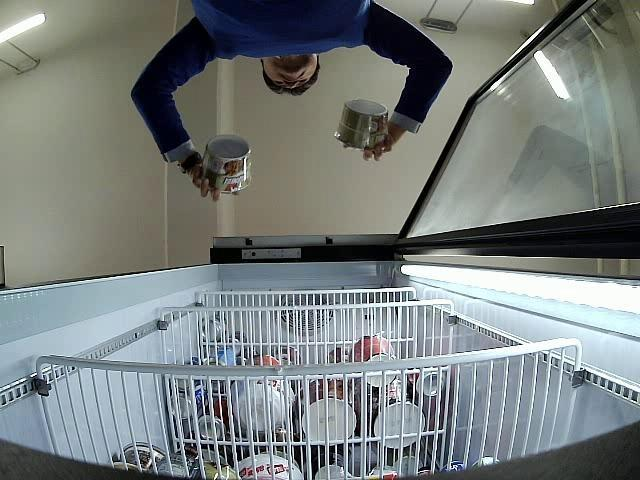03_chapagetti_L: (202, 135, 253, 194), (334, 100, 388, 150)
